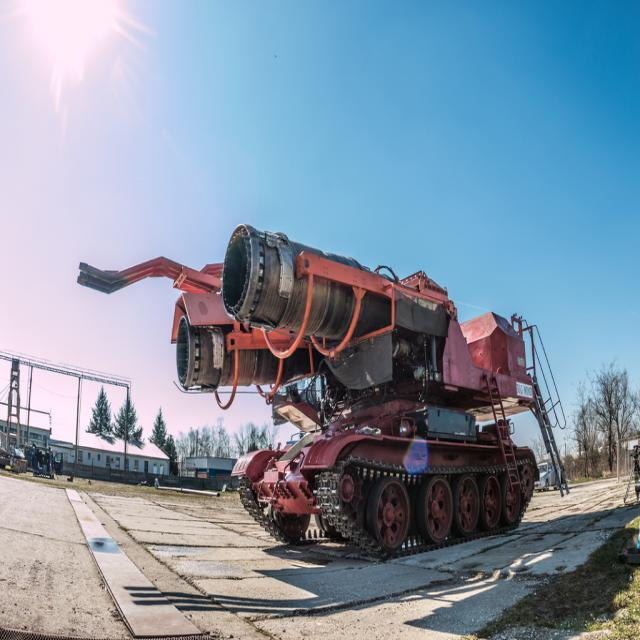tank: (75, 219, 567, 561)
